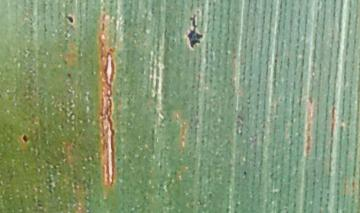tarspot: (187, 15, 203, 48), (66, 16, 74, 24), (22, 134, 28, 143), (67, 73, 72, 79)
